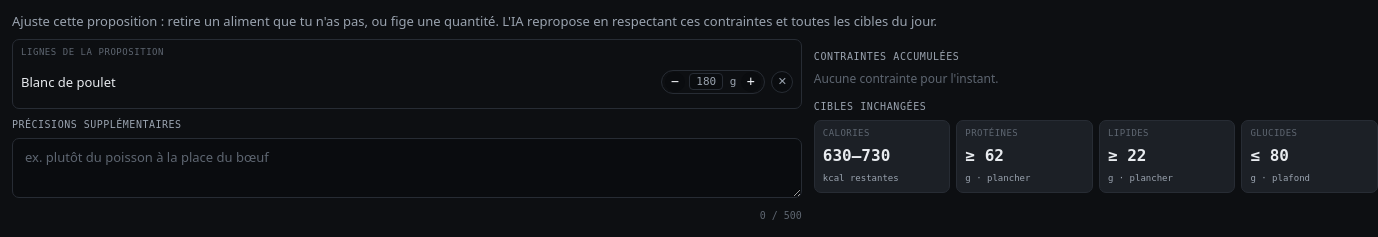
Test: RefinePanel — direct quantity entry (RF-1 / B-136) › typing a quantity pins the line at that value
Expected: the text "Aucune contrainte pour l'instant." is shown, 814,70 -> 998,87
Replace the text in the field named "Quantité" with "250" at x=706, y=82, box 689,73 -> 723,90
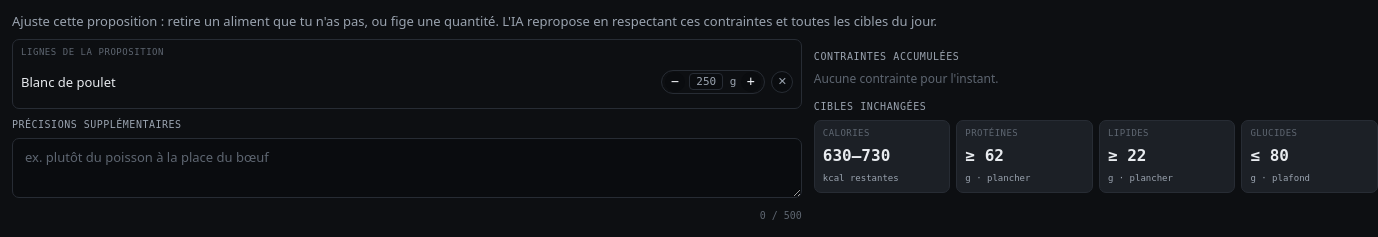
Leave the field named "Quantité", box 689,73 -> 723,90
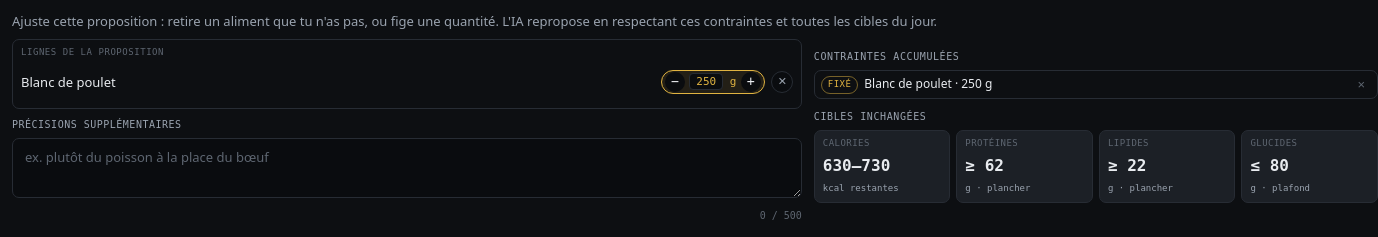
Now the text "Fixé" is shown, box 821,76 -> 858,94
